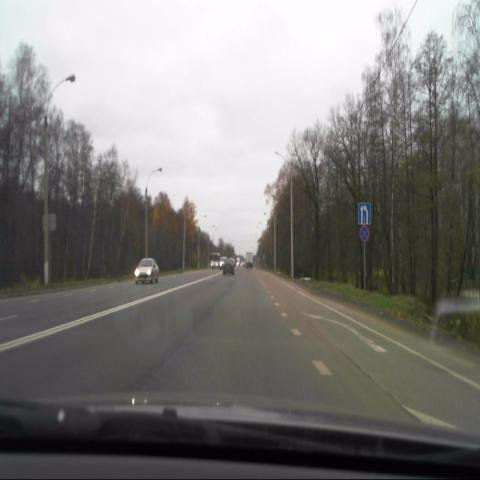5_15_5: (358, 201, 372, 224)
